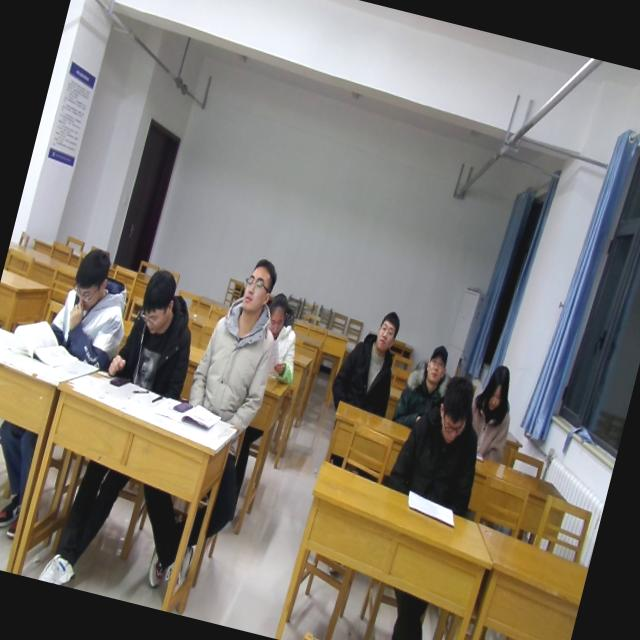bow: (248, 290, 313, 388)
down: (429, 366, 481, 448), (130, 262, 182, 342), (64, 238, 117, 312), (258, 284, 294, 340)
lookup: (234, 250, 284, 319), (476, 360, 518, 420), (416, 338, 454, 388), (369, 304, 404, 356)
sit: (181, 246, 298, 432), (382, 364, 499, 518), (102, 263, 211, 404), (45, 241, 139, 370), (325, 298, 412, 421), (457, 358, 526, 466), (391, 335, 461, 432)
